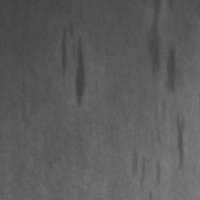inclusion: (55, 21, 90, 111), (139, 1, 165, 86), (127, 142, 165, 193), (171, 110, 193, 176), (162, 43, 184, 96)
